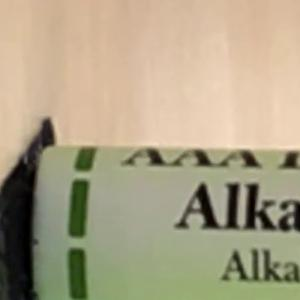keyword: (165, 172, 251, 240)
